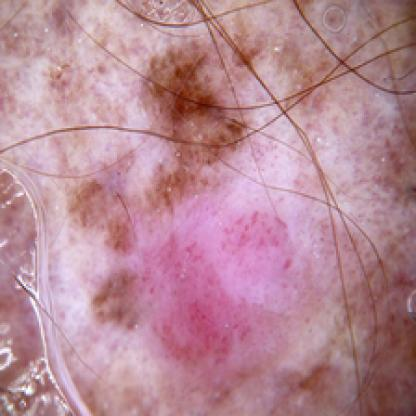Skin_Cancer-Malignant: (138, 36, 252, 209)
